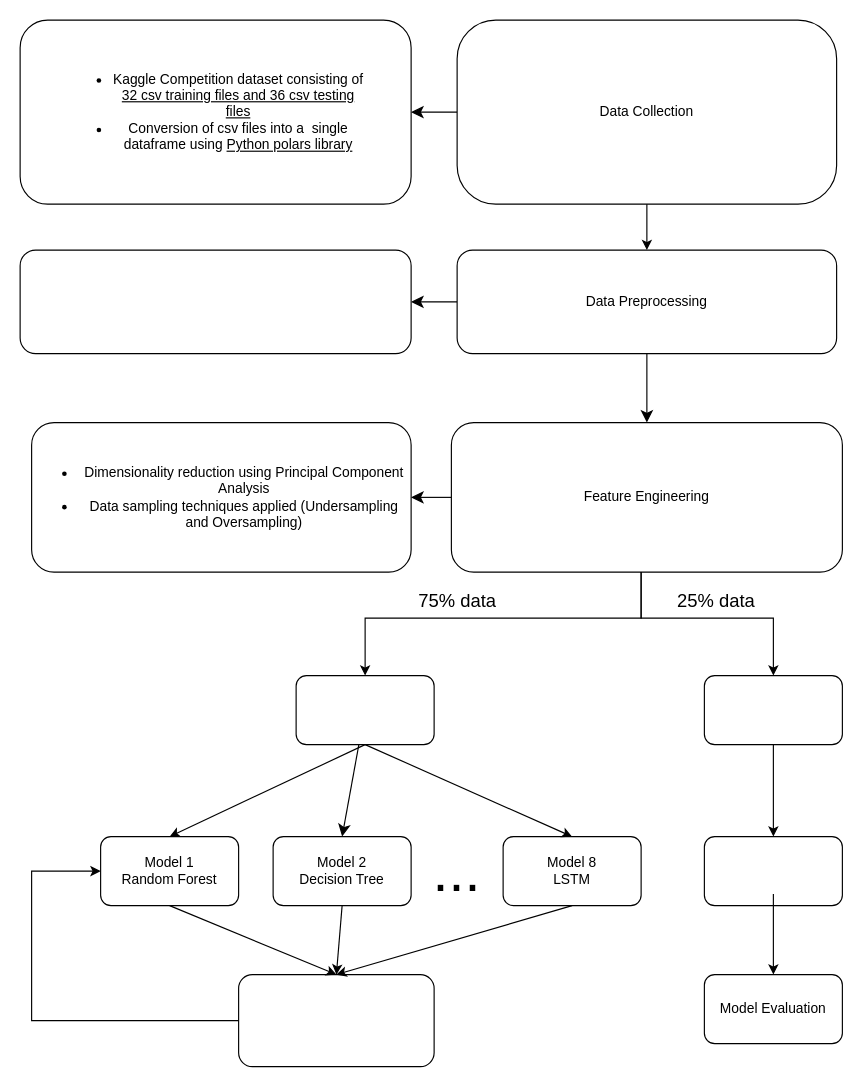
The diagram is 863 pixels wide and 1087 high, and some of its shapes have lost their labels. The centre of each missing label's shape, as x and y in pixels:
"Hyperparameter Tuning" belongs at point (335, 1020).
"Label Encoding Standard Scaling" belongs at point (215, 301).
"Testing Data" belongs at point (772, 709).
"Trained Models" belongs at point (772, 870).
"Training Data" belongs at point (364, 709).
